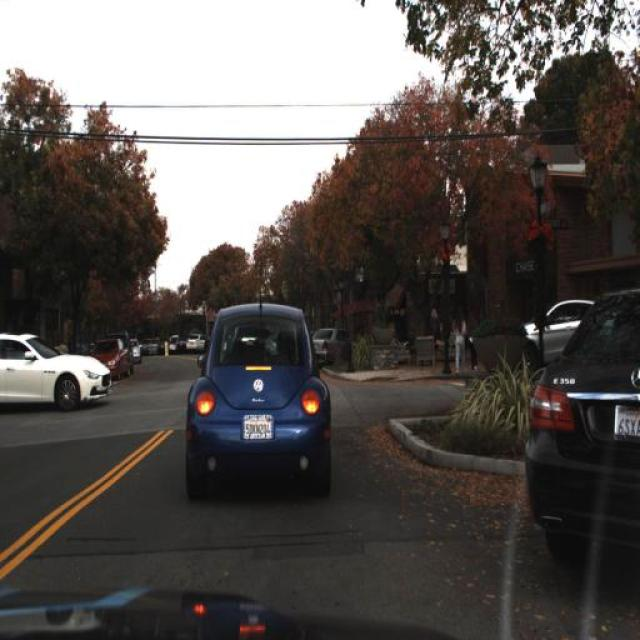car: (519, 280, 639, 560), (180, 300, 334, 509), (0, 327, 116, 418), (494, 285, 610, 376), (310, 323, 356, 369), (186, 332, 202, 353)
trafficLight: (451, 305, 468, 374), (429, 305, 442, 359)
